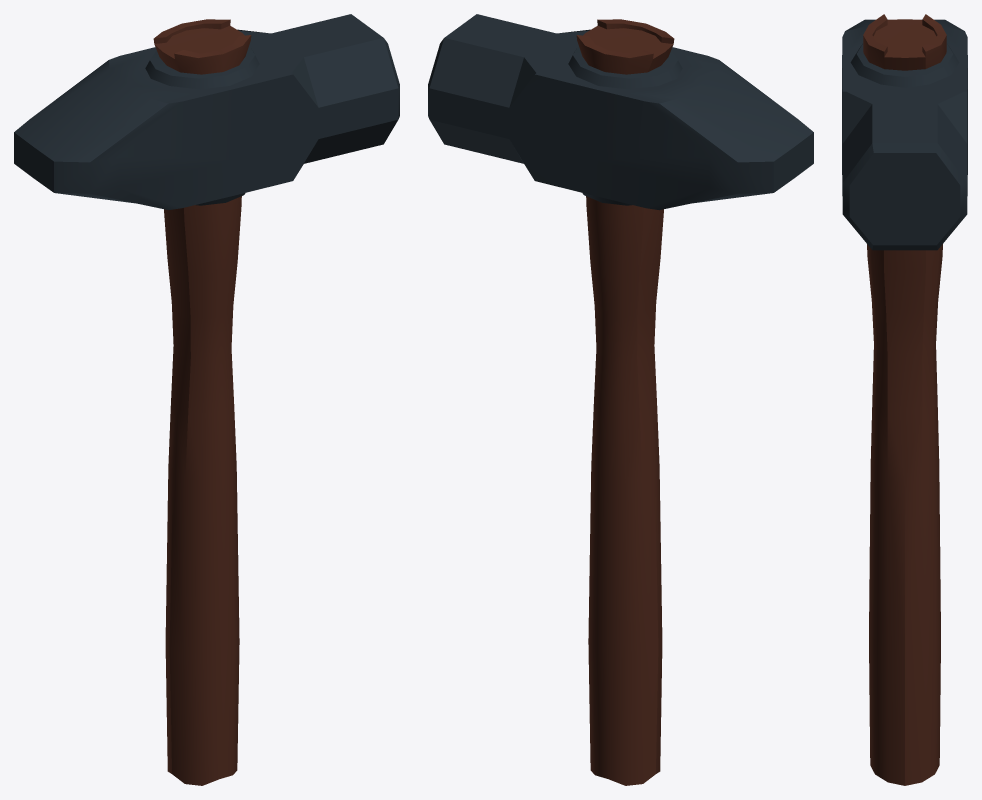
Rendered from smithingHammer.fbx.
The picture shows the model from 3 angles, left to right: view 1: azimuth 30°, elevation 25°; view 2: azimuth 150°, elevation 25°; view 3: azimuth 270°, elevation 25°; orthographic projection.
Parts seen in each view (by area): view 1: hammer; view 2: hammer; view 3: hammer.
Boxes of the visible parts, left/top/right/bottom form: hammer: left=14, top=14, right=399, bottom=785; hammer: left=428, top=14, right=813, bottom=785; hammer: left=842, top=14, right=967, bottom=785.
Bounding box in the file's own units: 20.02 × 41.54 × 6.42.
